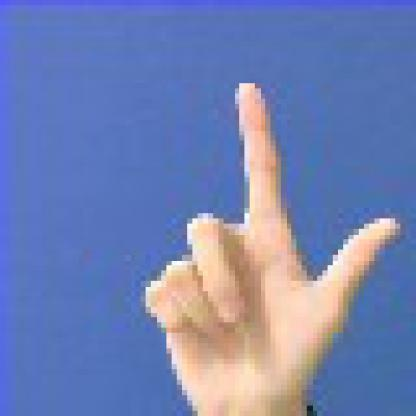seven: (125, 66, 415, 415)
